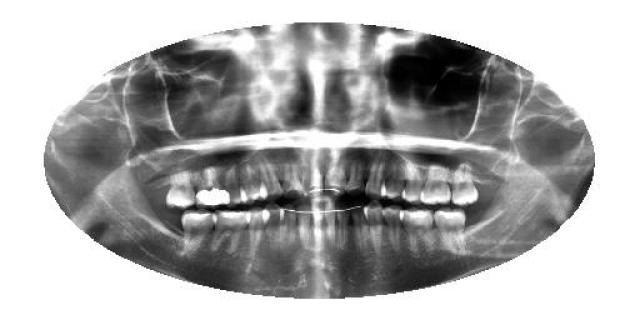Fillings: (196, 166, 230, 208)
